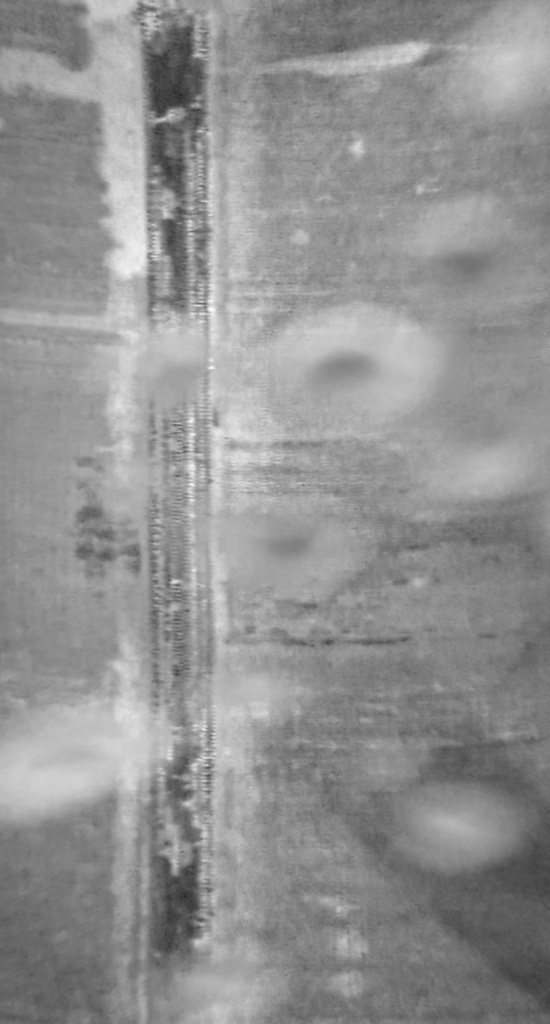splice: (130, 3, 227, 1024)
